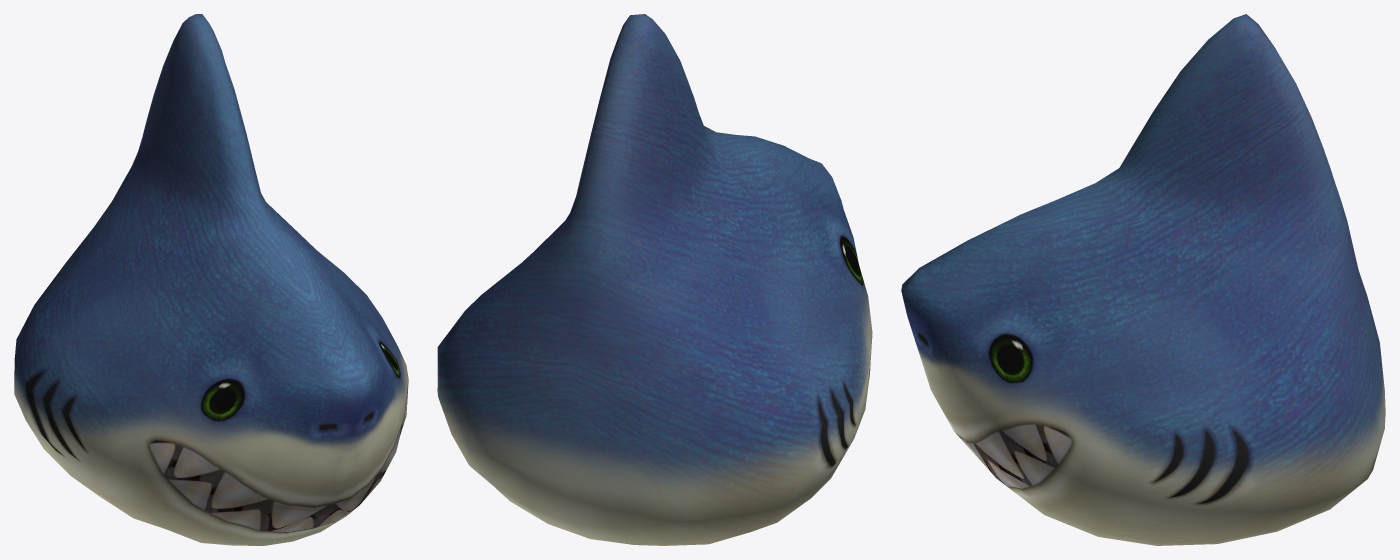
Rendered from CRT0110002.FBX.
3 renders of one model, left to right at view 1: azimuth 30°, elevation 25°; view 2: azimuth 150°, elevation 25°; view 3: azimuth 270°, elevation 25°, orthographic. The views are drawn at different scales.
Visible parts, largest first — view 1: smCRT0110002; view 2: smCRT0110002; view 3: smCRT0110002.
Part boxes in pixels (x1=…): smCRT0110002: x1=14, y1=14, x2=408, y2=545; smCRT0110002: x1=437, y1=14, x2=872, y2=545; smCRT0110002: x1=901, y1=14, x2=1385, y2=545.
Size of the model in its own units: 0.1695 by 0.2313 by 0.1998.
Materials: 1 (1 with a texture image).
